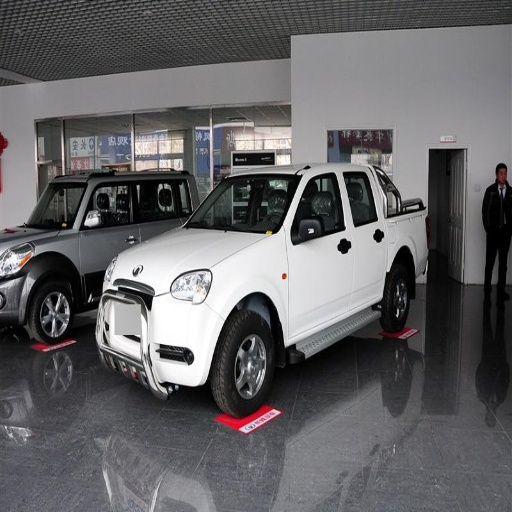front_bumper: (101, 272, 226, 391)
front_glass: (186, 178, 297, 232)
front_left_door: (289, 173, 355, 335)
